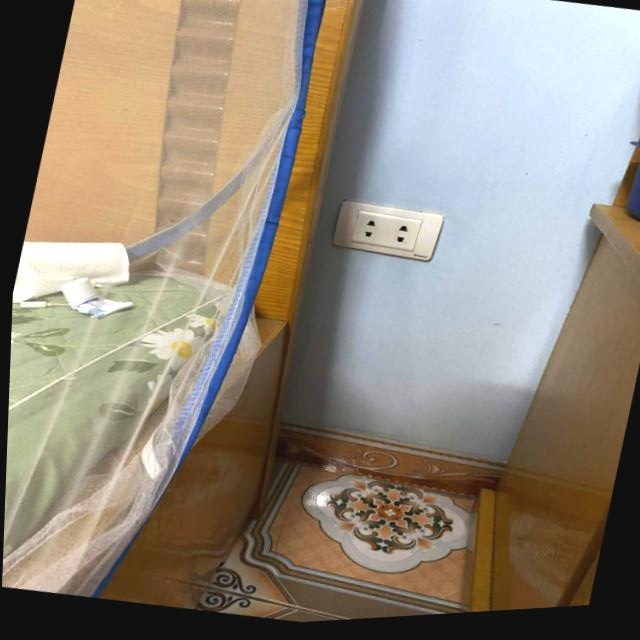outlet: (328, 195, 446, 270)
